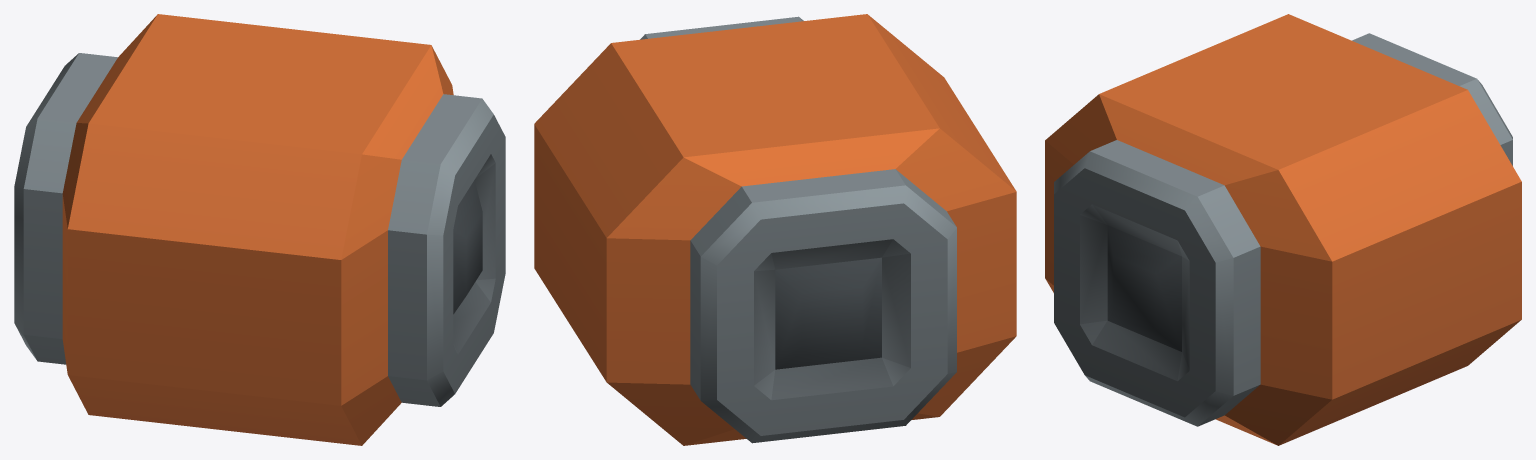
File: tunnel_diagonal_short_B.glb
3 views of the same model, side by side, from view 1: azimuth 30°, elevation 25°; view 2: azimuth 150°, elevation 25°; view 3: azimuth 270°, elevation 25° (orthographic). The views are drawn at different scales.
Parts seen in each view (by area): view 1: tunnel_diagonal_short_B; view 2: tunnel_diagonal_short_B; view 3: tunnel_diagonal_short_B.
Part boxes in pixels (<box>): tunnel_diagonal_short_B: <box>14,14,505,445</box>; tunnel_diagonal_short_B: <box>534,14,1016,445</box>; tunnel_diagonal_short_B: <box>1045,14,1521,445</box>.
Size of the model in its own units: 0.939 by 0.6 by 0.939.
1 material, 1 textured.
